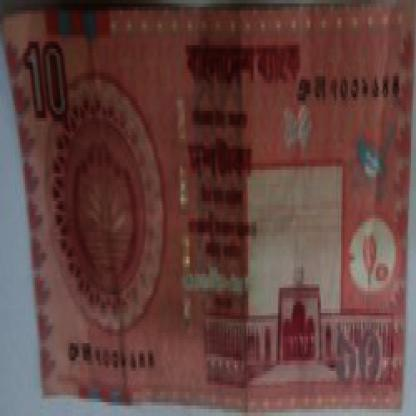Ten Taka: (332, 309, 394, 398), (18, 38, 75, 132)
